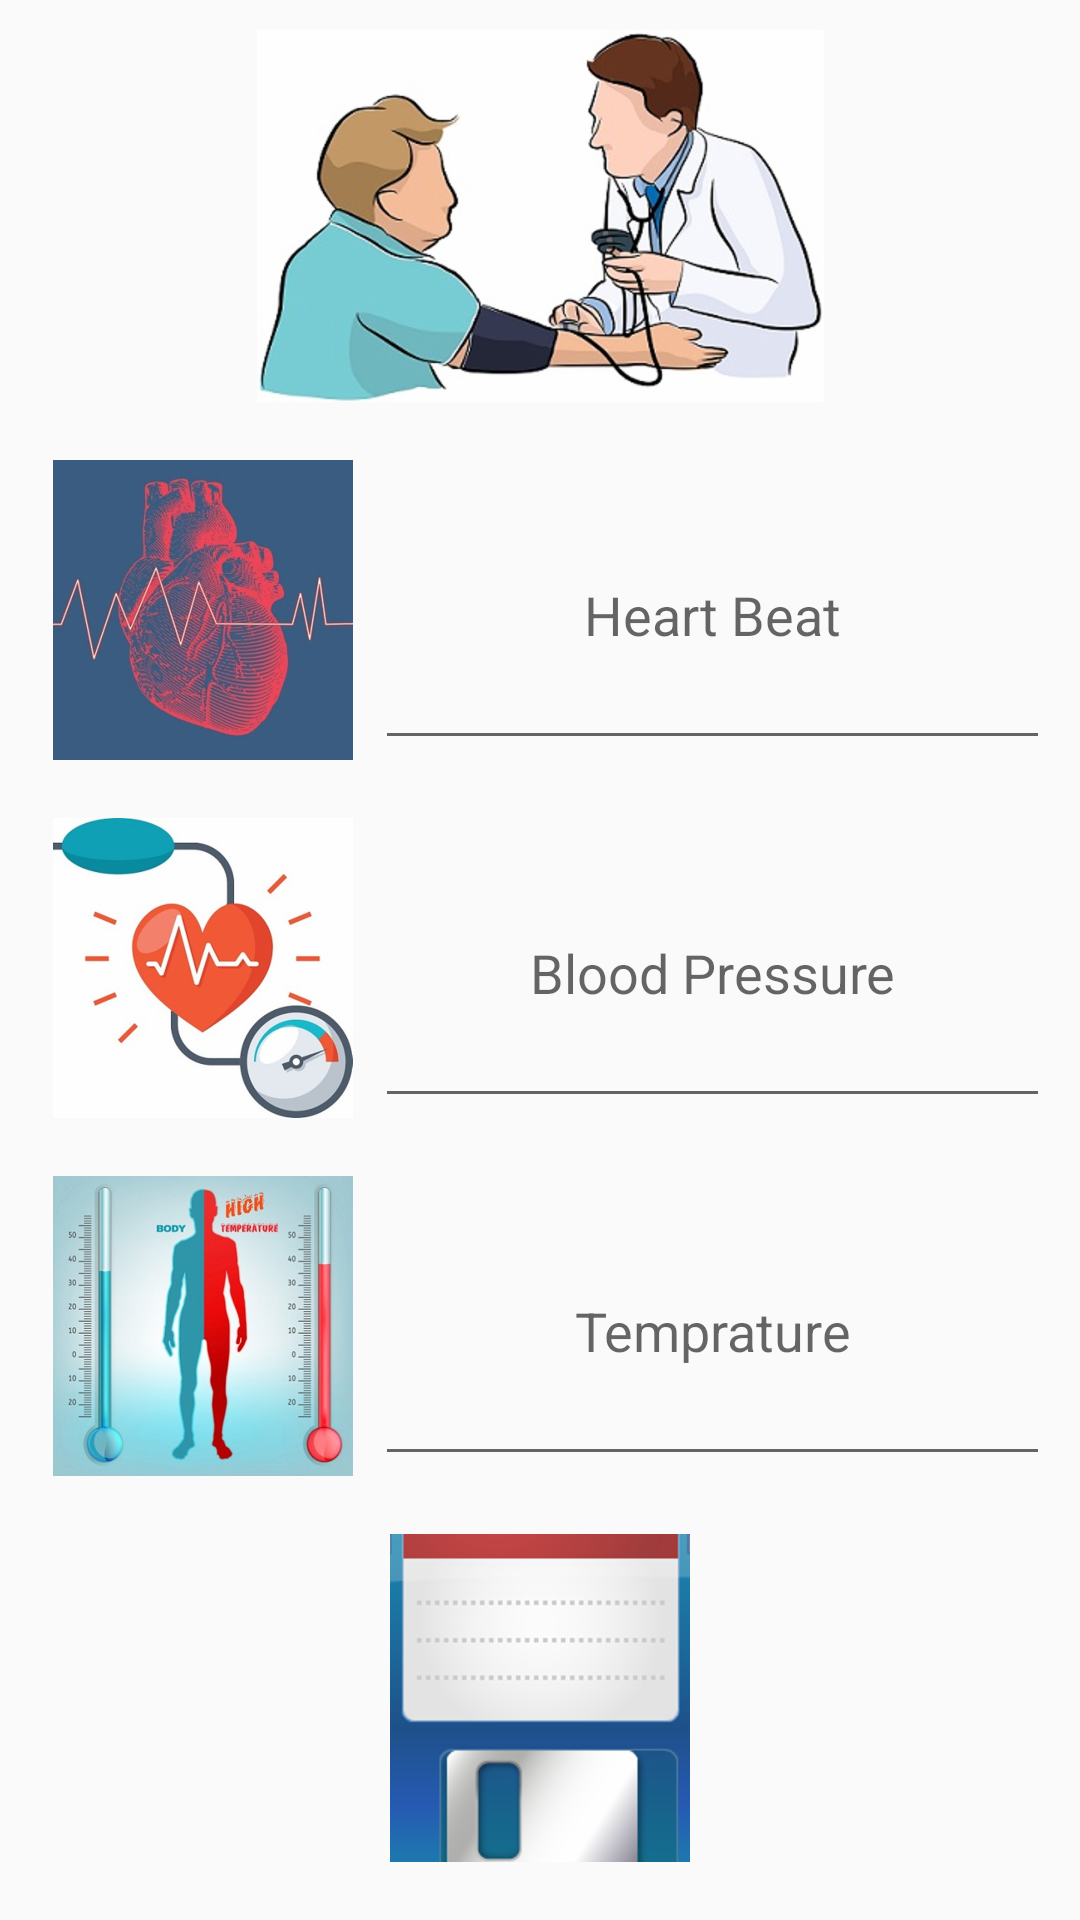

Screen size 1080px×1920px. Icon name, then its box in pixels as [x1, y1, x2, y2]:
save: [390, 1534, 690, 1862]
